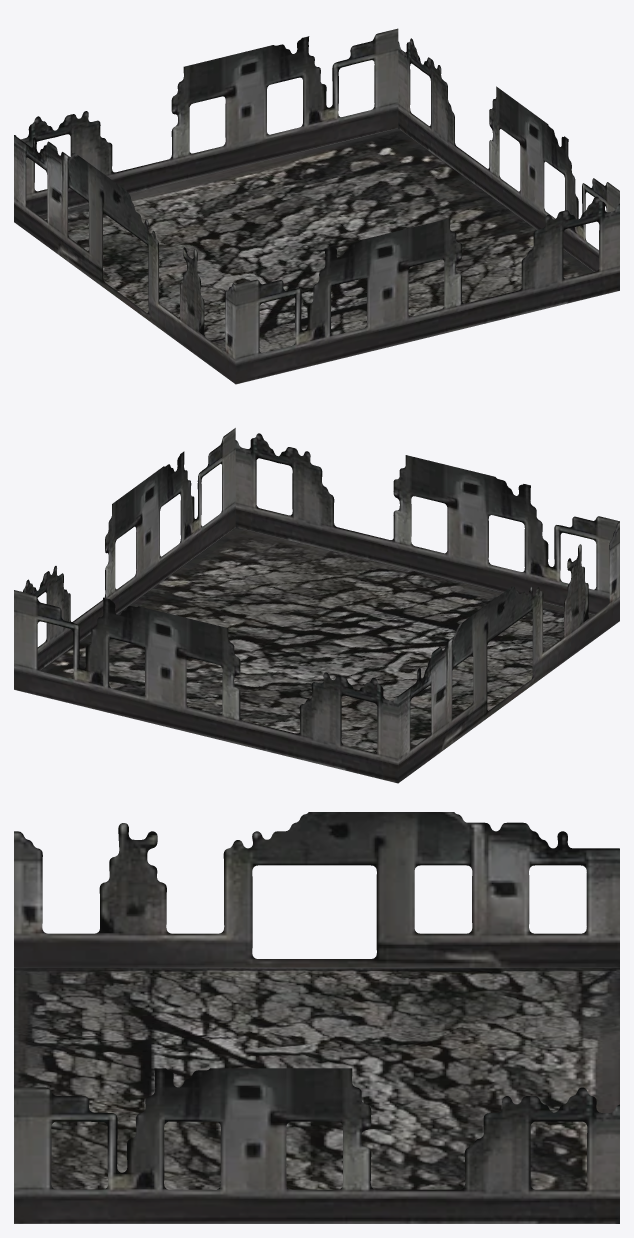
The model's file is city2storyb_dam_hdtex.glb.
3 views of the same model, one above another, from view 1: azimuth 30°, elevation 25°; view 2: azimuth 150°, elevation 25°; view 3: azimuth 270°, elevation 25° (orthographic). The views are drawn at different scales.
Visible parts, largest first — view 1: City2StoryA; view 2: City2StoryA; view 3: City2StoryA.
Part boxes in pixels (x1=…): City2StoryA: x1=14, y1=28, x2=619, y2=384; City2StoryA: x1=14, y1=428, x2=619, y2=783; City2StoryA: x1=14, y1=812, x2=619, y2=1223.
Size of the model in its own units: 17.76 by 5.03 by 17.76.
1 material, 1 textured.
